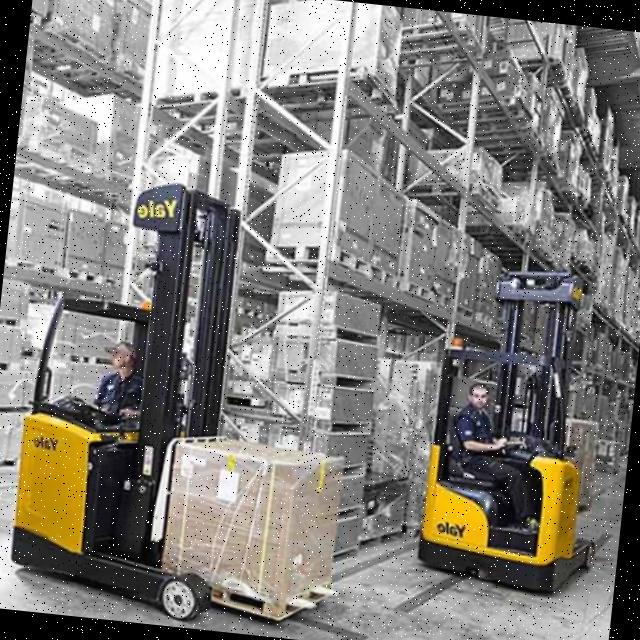Person: (446, 384, 548, 529), (88, 338, 149, 422)
